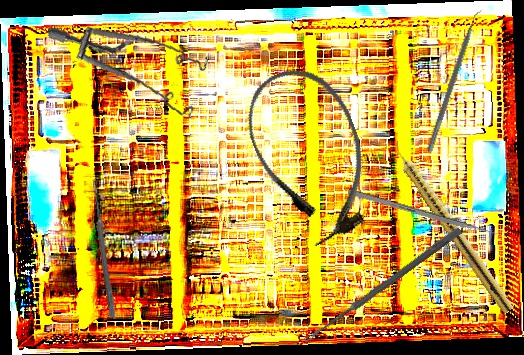Cannula: (232, 55, 390, 254)
Handpiece: (387, 138, 518, 315)
Pusher: (347, 188, 507, 240)
Spatula Surgical: (426, 5, 485, 155)
Speculum: (47, 7, 215, 136)
Surgical Spoon: (302, 225, 463, 346), (90, 179, 117, 318)
